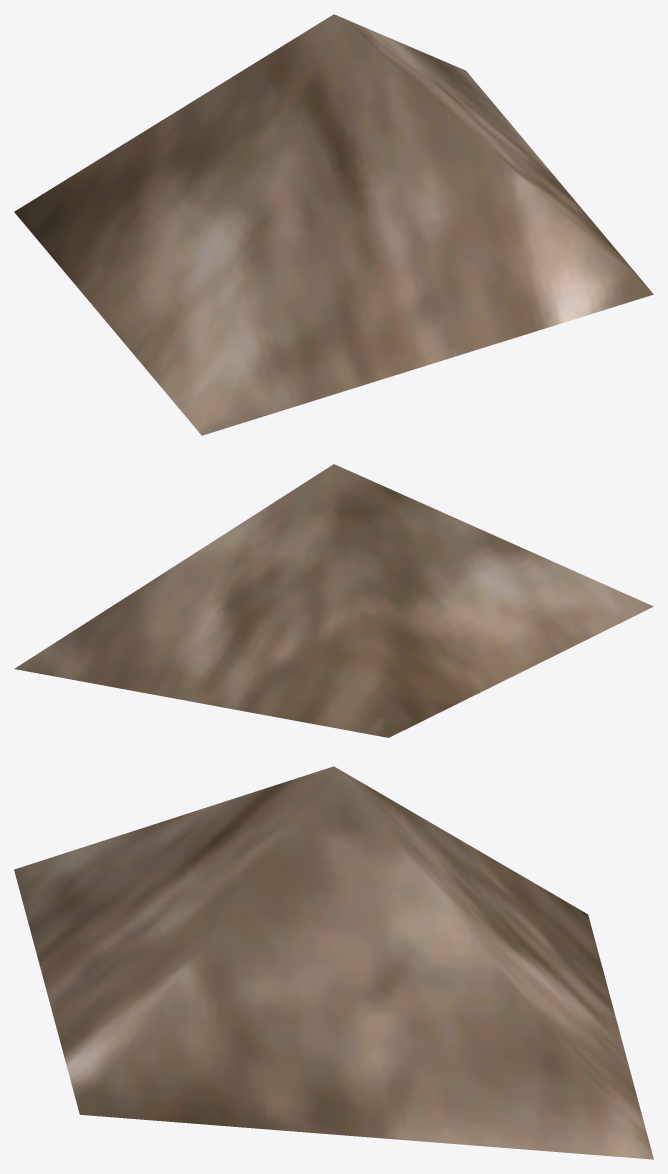
Rendered from OVERHILL_A_01_PLANE12.fbx.
3 renders of one model, top to bottom at view 1: azimuth 30°, elevation 25°; view 2: azimuth 150°, elevation 25°; view 3: azimuth 270°, elevation 25°, orthographic. The views are drawn at different scales.
Visible parts, largest first — view 1: OVERHILL_A_01_PLANE12; view 2: OVERHILL_A_01_PLANE12; view 3: OVERHILL_A_01_PLANE12.
Boxes of the visible parts, x1,y1,x2,y2 form: OVERHILL_A_01_PLANE12: (14,14,653,435); OVERHILL_A_01_PLANE12: (14,464,653,737); OVERHILL_A_01_PLANE12: (14,766,653,1159).
Bounding box in the file's own units: 1164 × 465 × 1086.
Materials: 1 (1 with a texture image).
